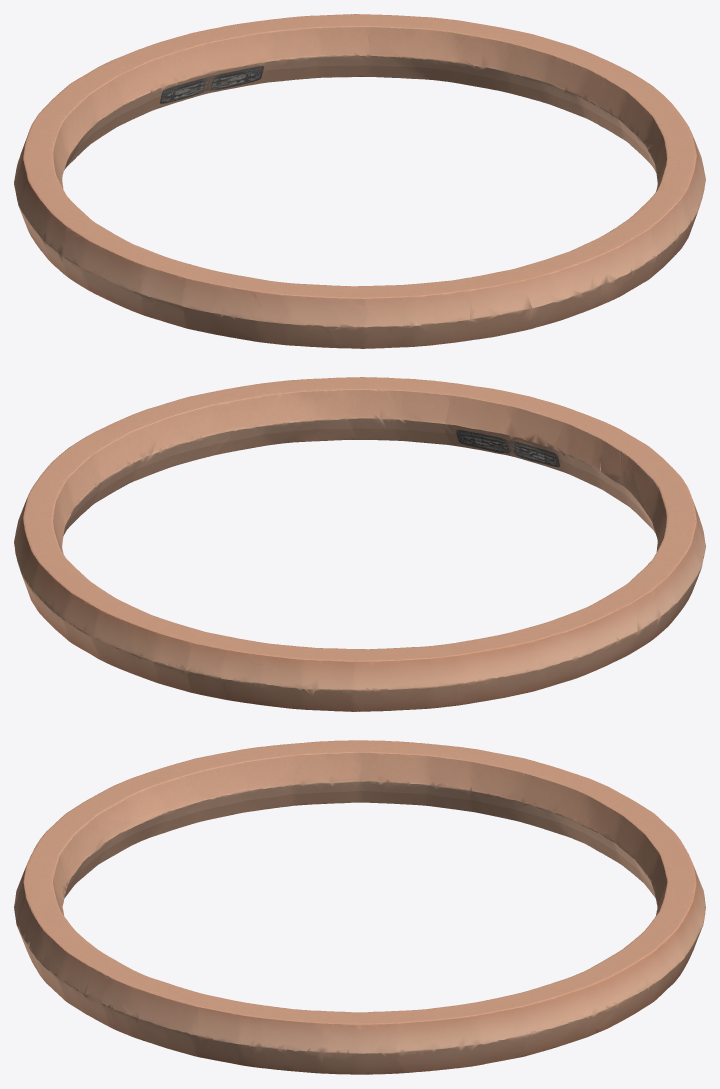
File: ring_rose_gold.glb
3 views of the same model, one above another, from view 1: azimuth 30°, elevation 25°; view 2: azimuth 150°, elevation 25°; view 3: azimuth 270°, elevation 25° (orthographic).
Bounding box in the file's own units: 1.9 × 0.1545 × 1.9.
Materials: 1 (1 with a texture image).
